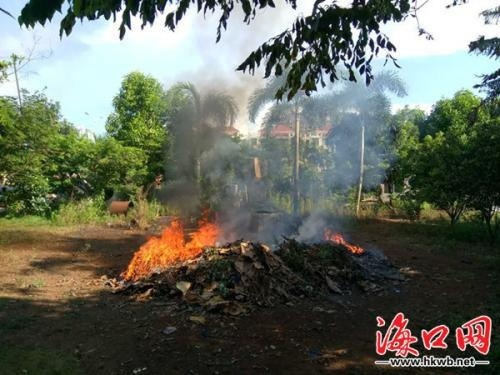fire: (115, 209, 224, 285), (323, 227, 364, 252)
